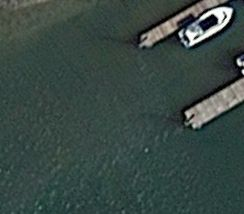boat: (176, 7, 234, 53)
